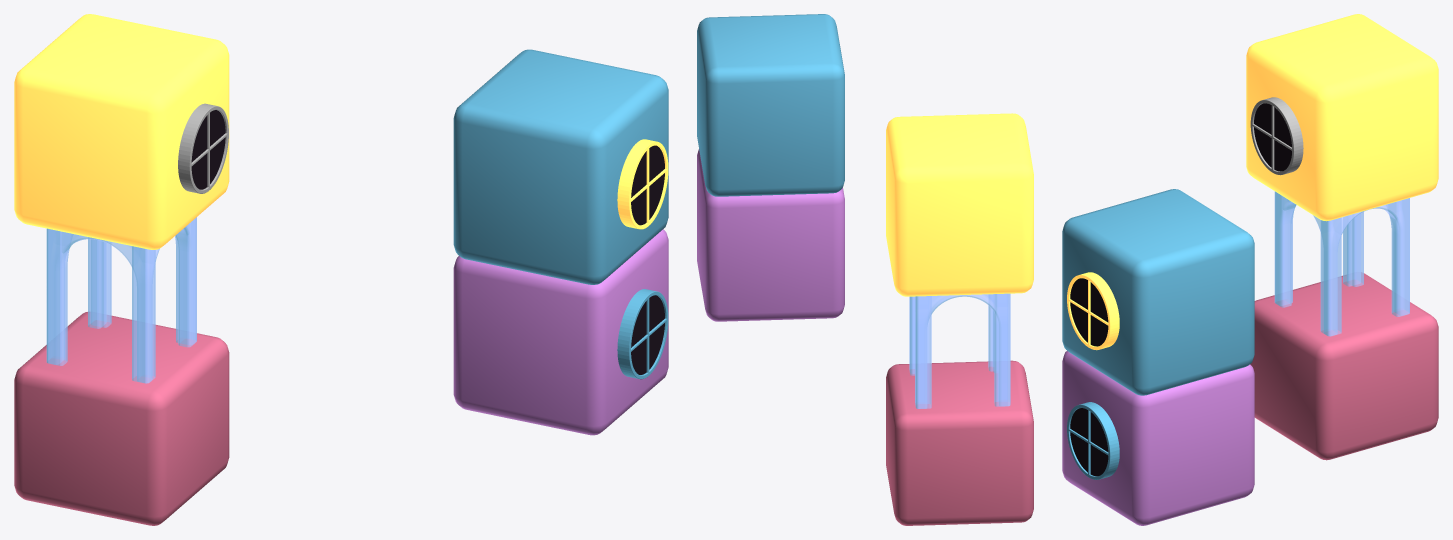
File: house4.fbx
3 renders of one model, left to right at view 1: azimuth 30°, elevation 25°; view 2: azimuth 150°, elevation 25°; view 3: azimuth 270°, elevation 25°, orthographic. The views are drawn at different scales.
Parts seen in each view (by area): view 1: Cube_2, Cube_1, Cube_6, Cube, Arch_4, Arch_1, Arch_2, Arch_3, glass_3, glass, glass_2, window_extrude_2 (+2 smaller); view 2: Cube_2, Cube_1, Cube_6, Cube, Arch_2, Arch_3, Arch_4, Arch_1; view 3: Cube_2, Cube_1, Cube_6, Cube, Arch_3, Arch_1, Arch_2, Arch_4, glass, glass_2, glass_3, window_extrude (+5 smaller).
Boxes of the visible parts, left/top/right/bottom form: Cube_2: left=14, top=14, right=229, bottom=249; Cube_1: left=453, top=49, right=668, bottom=284; Cube_6: left=14, top=312, right=229, bottom=525; Cube: left=453, top=229, right=668, bottom=435; Arch_4: left=46, top=229, right=155, bottom=383; Arch_1: left=132, top=218, right=196, bottom=383; Arch_2: left=46, top=228, right=111, bottom=365; Arch_3: left=88, top=217, right=196, bottom=347; glass_3: left=191, top=110, right=225, bottom=189; glass: left=631, top=145, right=664, bottom=225; glass_2: left=631, top=295, right=664, bottom=374; window_extrude_2: left=617, top=289, right=666, bottom=378; Cube_2: left=886, top=113, right=1033, bottom=296; Cube_1: left=697, top=14, right=844, bottom=196; Cube_6: left=886, top=360, right=1033, bottom=525; Cube: left=697, top=149, right=844, bottom=321; Arch_2: left=915, top=293, right=1010, bottom=408; Arch_3: left=910, top=296, right=931, bottom=408; Arch_4: left=988, top=293, right=1009, bottom=406; Arch_1: left=909, top=296, right=994, bottom=375; Cube_2: left=1246, top=14, right=1438, bottom=221; Cube_1: left=1062, top=189, right=1254, bottom=395; Cube_6: left=1250, top=272, right=1438, bottom=460; Cube: left=1062, top=351, right=1254, bottom=525; Arch_3: left=1320, top=198, right=1409, bottom=336; Arch_1: left=1275, top=192, right=1341, bottom=336; Arch_2: left=1343, top=198, right=1409, bottom=316; Arch_4: left=1274, top=191, right=1363, bottom=307; glass: left=1070, top=278, right=1108, bottom=346; glass_2: left=1070, top=408, right=1108, bottom=476; glass_3: left=1254, top=103, right=1291, bottom=171; window_extrude: left=1069, top=272, right=1119, bottom=349.
Size of the model in its own units: 420 by 329 by 300.
